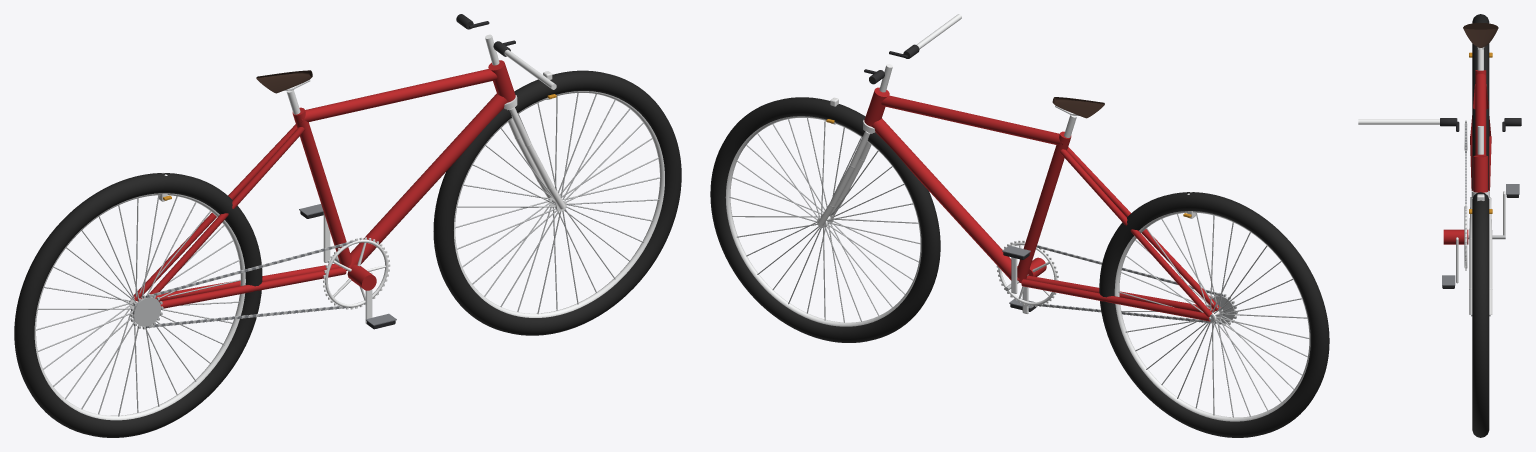
The model's file is bicycle.glb.
3 views of the same model, side by side, from view 1: azimuth 30°, elevation 25°; view 2: azimuth 150°, elevation 25°; view 3: azimuth 270°, elevation 25° (orthographic). The views are drawn at different scales.
Visible parts, largest first — view 1: rearw tyre, frontw tyre, down tube 0, top tube 0, frontw rim, rearw rim, seat tube 0, seatstay 0.06 0, chainstay 0.06 0, seatstay -0.06 0, chainstay -0.06 0, seat (+2 smaller); view 2: rearw tyre, frontw tyre, down tube 0, frontw rim, top tube 0, rearw rim, seat tube 0, chainstay -0.06 0, seatstay -0.06 0, seatstay 0.06 0, chainstay 0.06 0, seat; view 3: frontw tyre, rearw tyre, top tube 0, seat, head tube, bar, bottom bracket, chainring, stem 0, blade 0.07 1, blade -0.07 1.
Boxes of the visible parts, x1,y1,x2,y2 form: rearw tyre: [14, 173, 262, 437]; frontw tyre: [433, 70, 681, 335]; down tube 0: [348, 93, 507, 267]; top tube 0: [301, 69, 497, 122]; frontw rim: [454, 91, 664, 317]; rearw rim: [34, 193, 245, 420]; seat tube 0: [292, 107, 351, 270]; seatstay 0.06 0: [149, 127, 304, 294]; chainstay 0.06 0: [159, 267, 346, 308]; seatstay -0.06 0: [133, 124, 297, 300]; chainstay -0.06 0: [137, 263, 340, 301]; seat: [256, 70, 312, 93]; rearw tyre: [1099, 192, 1329, 437]; frontw tyre: [710, 97, 940, 342]; down tube 0: [871, 118, 1019, 280]; frontw rim: [725, 116, 921, 326]; top tube 0: [881, 95, 1063, 145]; rearw rim: [1114, 211, 1310, 421]; seat tube 0: [1017, 131, 1071, 282]; chainstay -0.06 0: [1021, 279, 1210, 321]; seatstay -0.06 0: [1060, 149, 1212, 316]; seatstay 0.06 0: [1066, 147, 1220, 310]; chainstay 0.06 0: [1026, 275, 1215, 312]; seat: [1052, 97, 1104, 118]; frontw tyre: [1472, 192, 1489, 437]; rearw tyre: [1472, 14, 1489, 190]; top tube 0: [1475, 74, 1486, 155]; seat: [1463, 23, 1498, 47]; head tube: [1473, 155, 1488, 192]; bar: [1358, 119, 1439, 124]; bottom bracket: [1443, 229, 1468, 244]; chainring: [1464, 206, 1467, 268]; stem 0: [1477, 126, 1483, 154]; blade 0.07 1: [1469, 239, 1472, 288]; blade -0.07 1: [1489, 239, 1492, 288].
Size of the model in its own units: 5.39 by 2.5 by 1.32.
